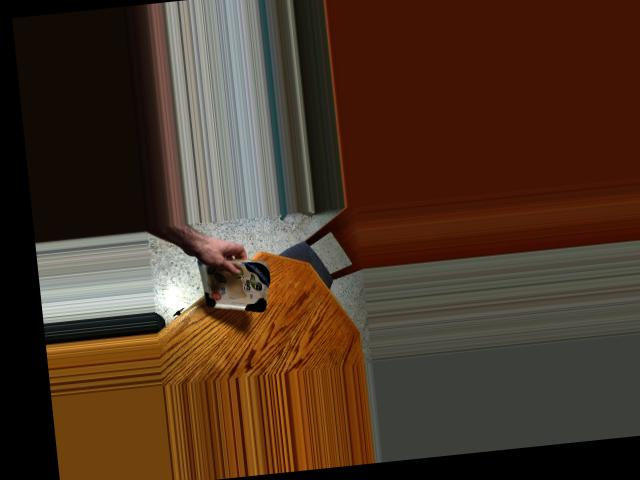cheese: (189, 254, 277, 313)
